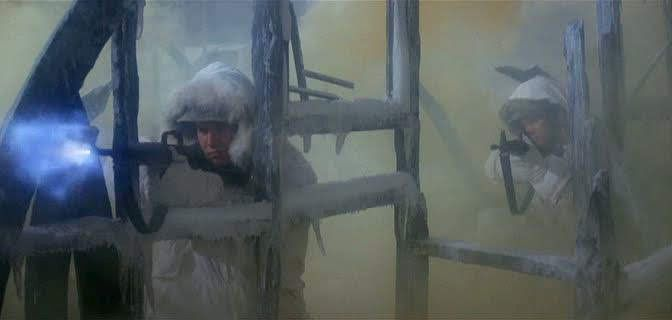gun: (74, 127, 223, 181), (471, 114, 540, 170)
